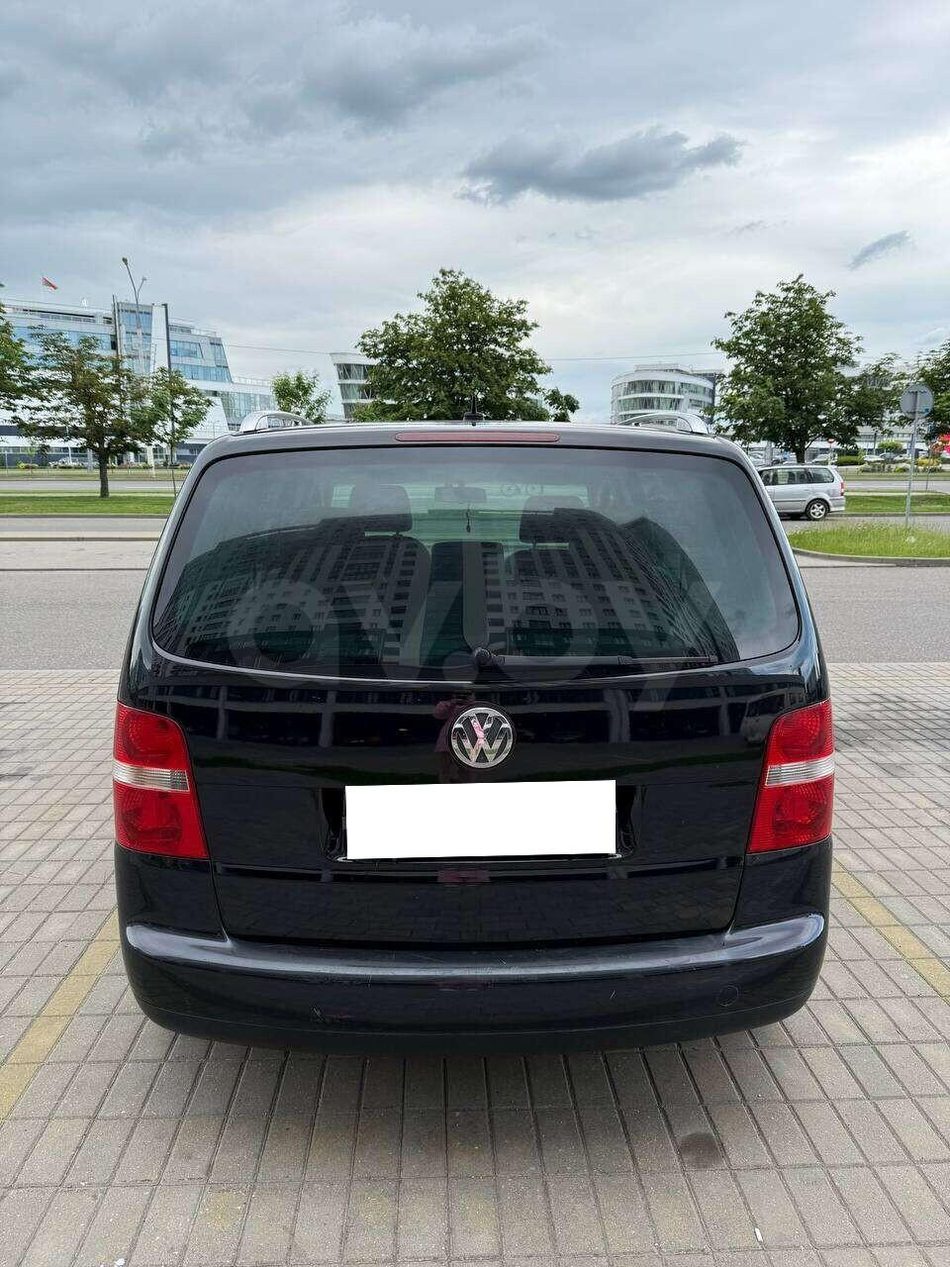Touran_2003-2006: (109, 414, 843, 1057)
